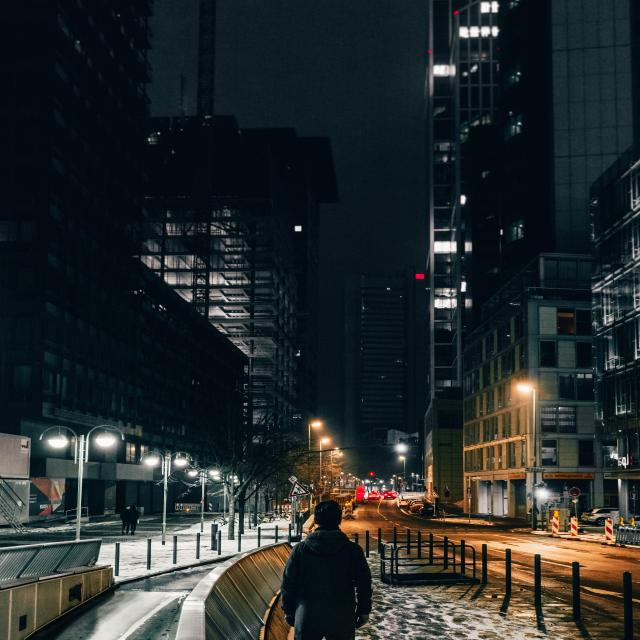adult: (278, 496, 377, 640)
